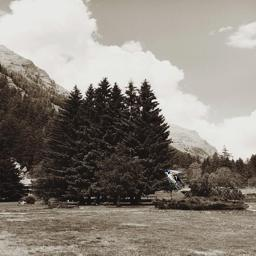Swallow: (164, 169, 185, 190)
